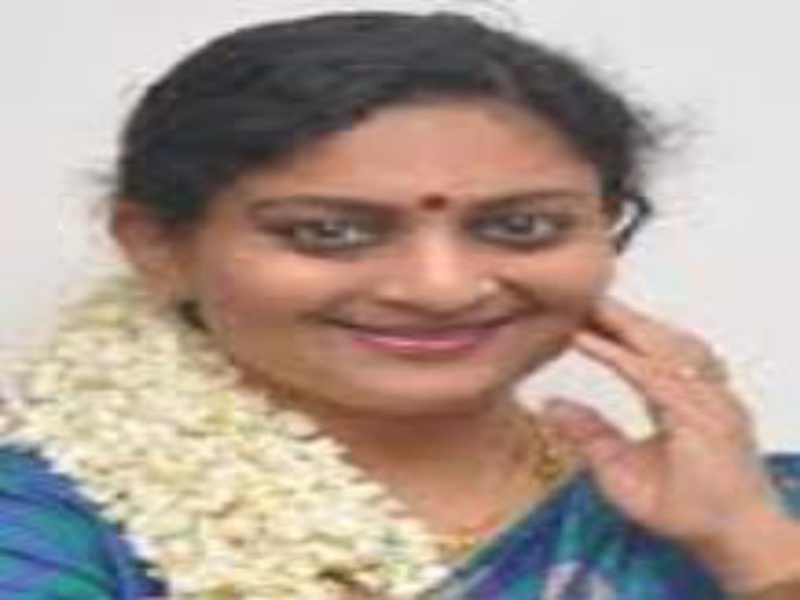TsisyArotava: (104, 10, 707, 480)
